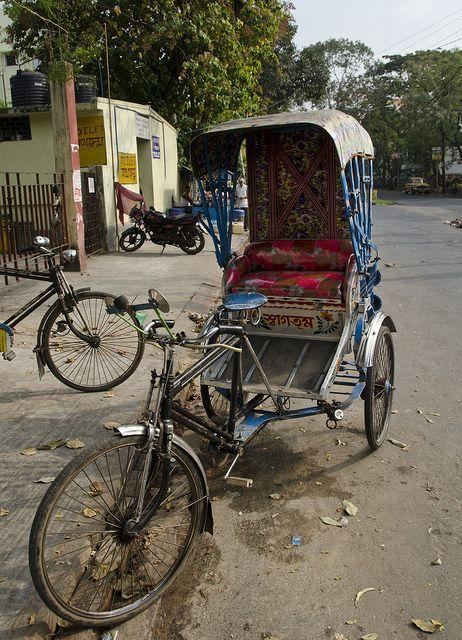Rickshaw: (30, 110, 394, 625)
